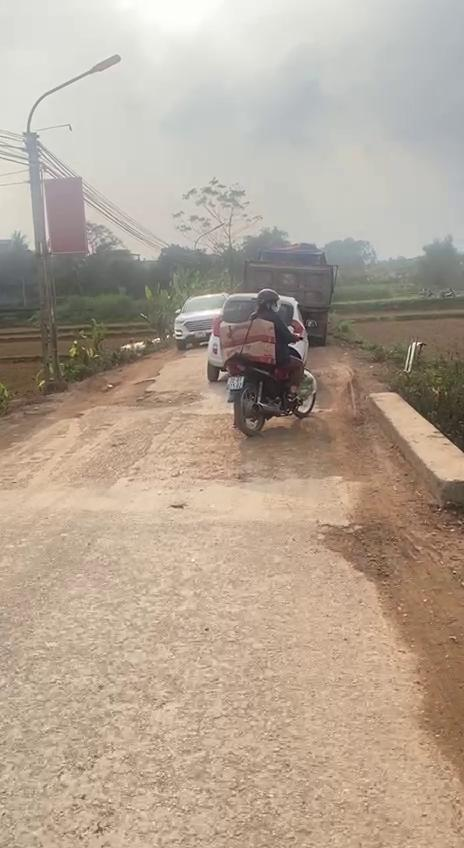pothole: (317, 518, 400, 590), (66, 377, 204, 418)
